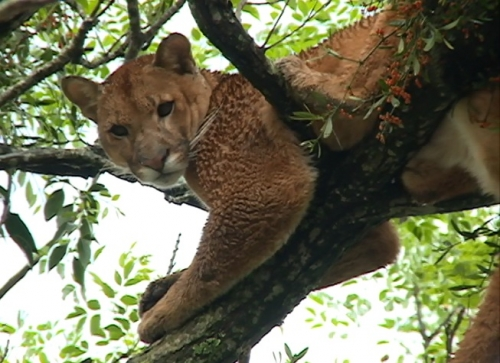OncaParda: (52, 27, 495, 340)
